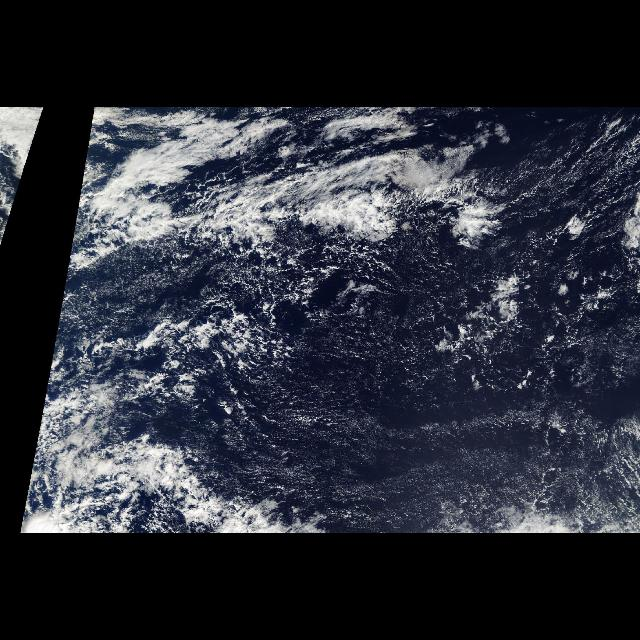Fish: (62, 152, 490, 302)
Gravel: (126, 247, 382, 397)
Sugar: (197, 248, 636, 532)
